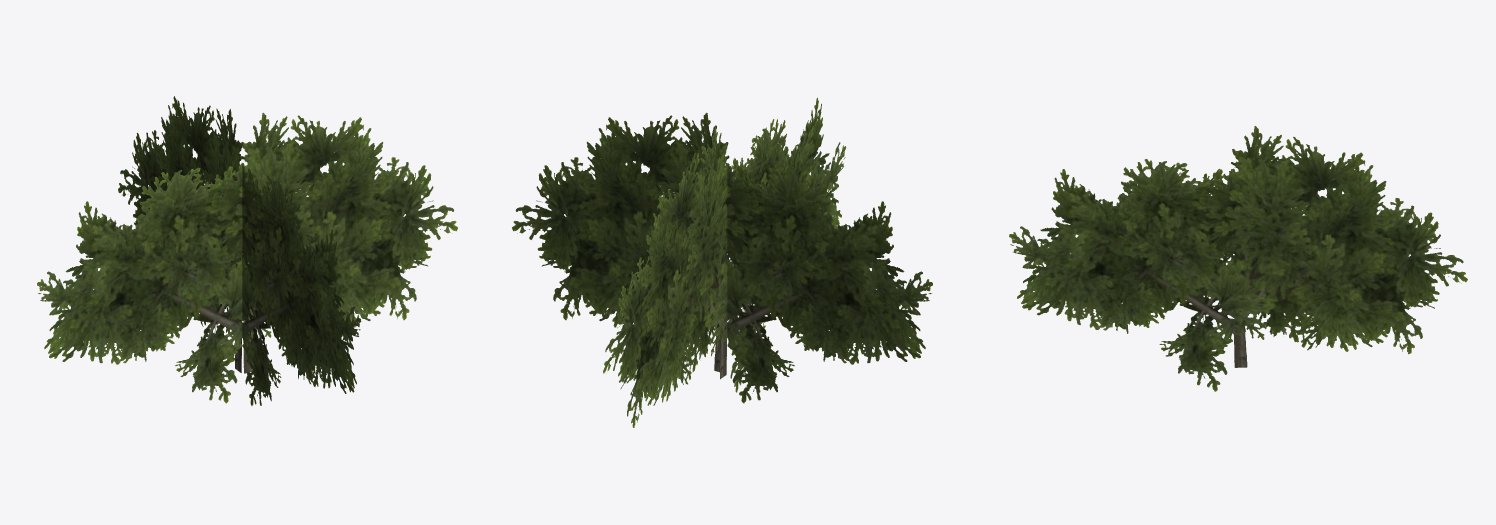
The model's file is baum_nadelbusch_1_lod2.glb.
3 views of the same model, side by side, from view 1: azimuth 30°, elevation 25°; view 2: azimuth 150°, elevation 25°; view 3: azimuth 270°, elevation 25° (orthographic). The views are drawn at different scales.
Visible parts, largest first — view 1: Billboard; view 2: Billboard; view 3: Billboard.
Part boxes in pixels (x1,y1,x2,y2): Billboard: [37, 96, 457, 405]; Billboard: [512, 97, 932, 427]; Billboard: [1009, 126, 1467, 391].
Size of the model in its own units: 5.03 by 3.2 by 5.03.
1 material, 1 textured.
